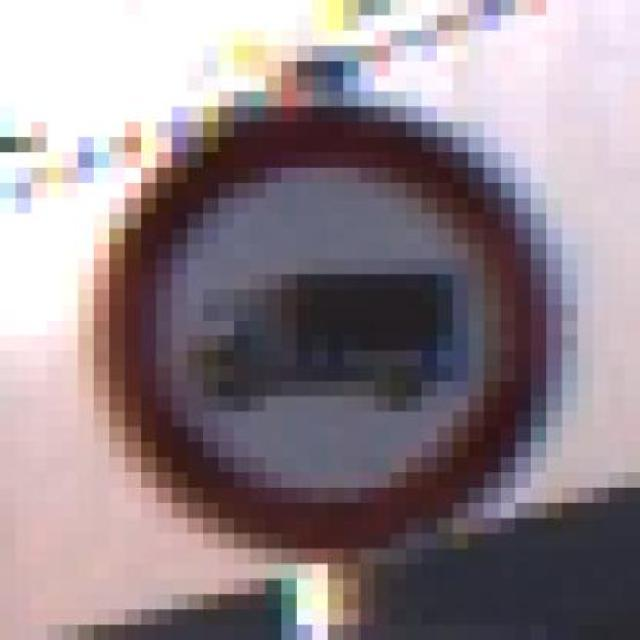Truck traffic is prohibited: (78, 91, 593, 564)
